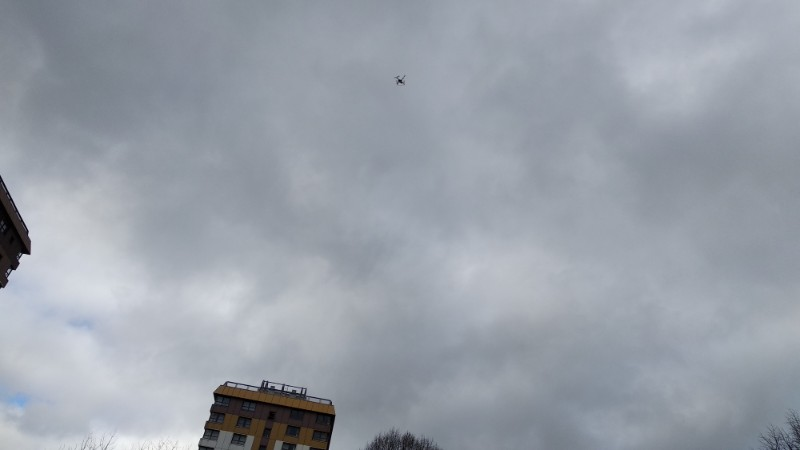drone: (394, 74, 407, 86)
